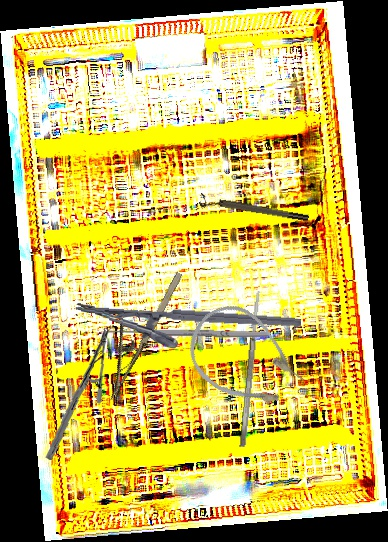Cannula: (174, 291, 317, 428)
Fixation Ring: (198, 192, 310, 228)
Hook Surgical: (100, 326, 271, 345)
Needle Holder: (84, 259, 187, 403), (73, 301, 302, 358), (34, 327, 122, 461)
Spatula Surgical: (238, 290, 263, 448)
